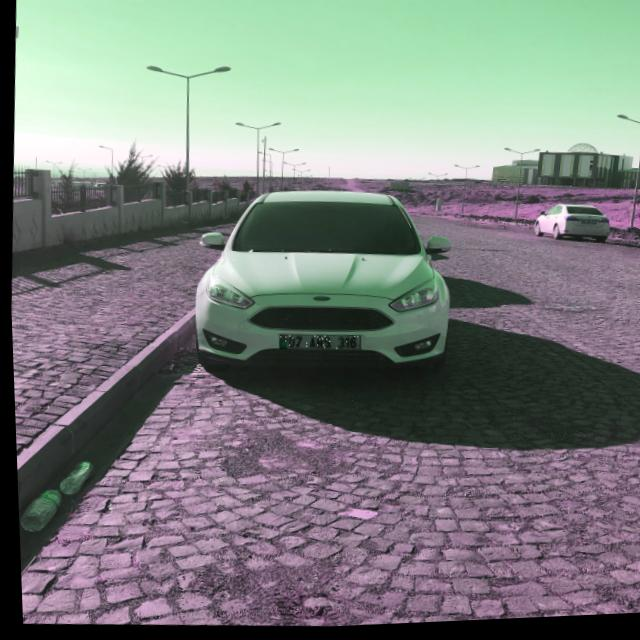license_plate: (277, 335, 359, 356)
